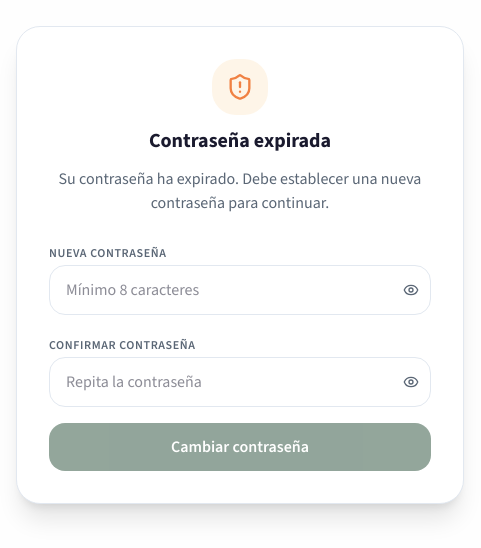
Test: CambiarPasswordExpirada — validación › el botón está deshabilitado hasta que ambas contraseñas sean válidas y coincidan
expect the button "Cambiar contraseña" is disabled: met, box [49,423,431,471]
Type "Sup3r$ecreta" into the password field with placeholder "Mínimo 8 caracteres" at {"x": 240, "y": 290}, box [49,265,431,315]
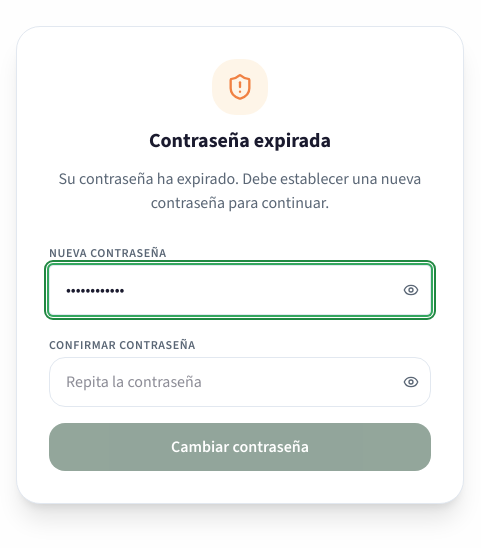
expect the button "Cambiar contraseña" is disabled: met, box [49,423,431,471]
Type "OtraDistinta1!" into the password field with placeholder "Repita la contraseña" at {"x": 240, "y": 382}, box [49,357,431,407]
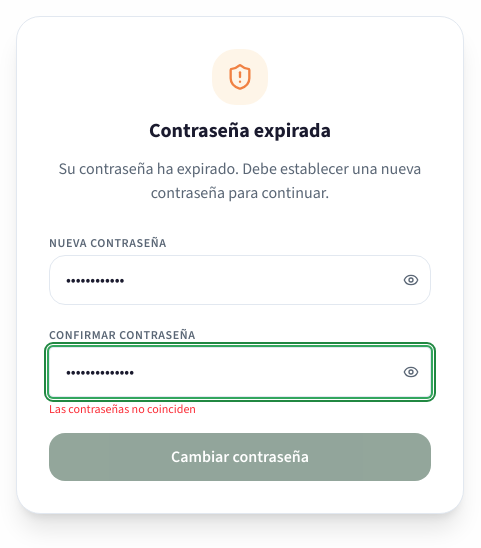
expect the button "Cambiar contraseña" is disabled: met, box [49,433,431,481]
expect the text "Las contraseñas no coinciden" is shown: met, box [49,401,196,417]
